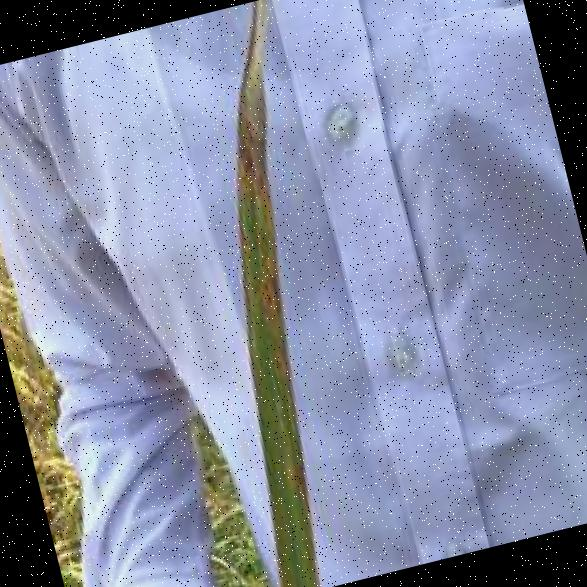Bacteria_Leaf_Blight: (168, 13, 362, 448)
